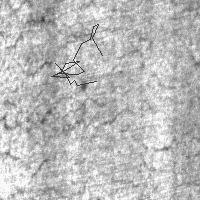crazing: (4, 94, 177, 152), (3, 16, 133, 77), (51, 24, 102, 85)
